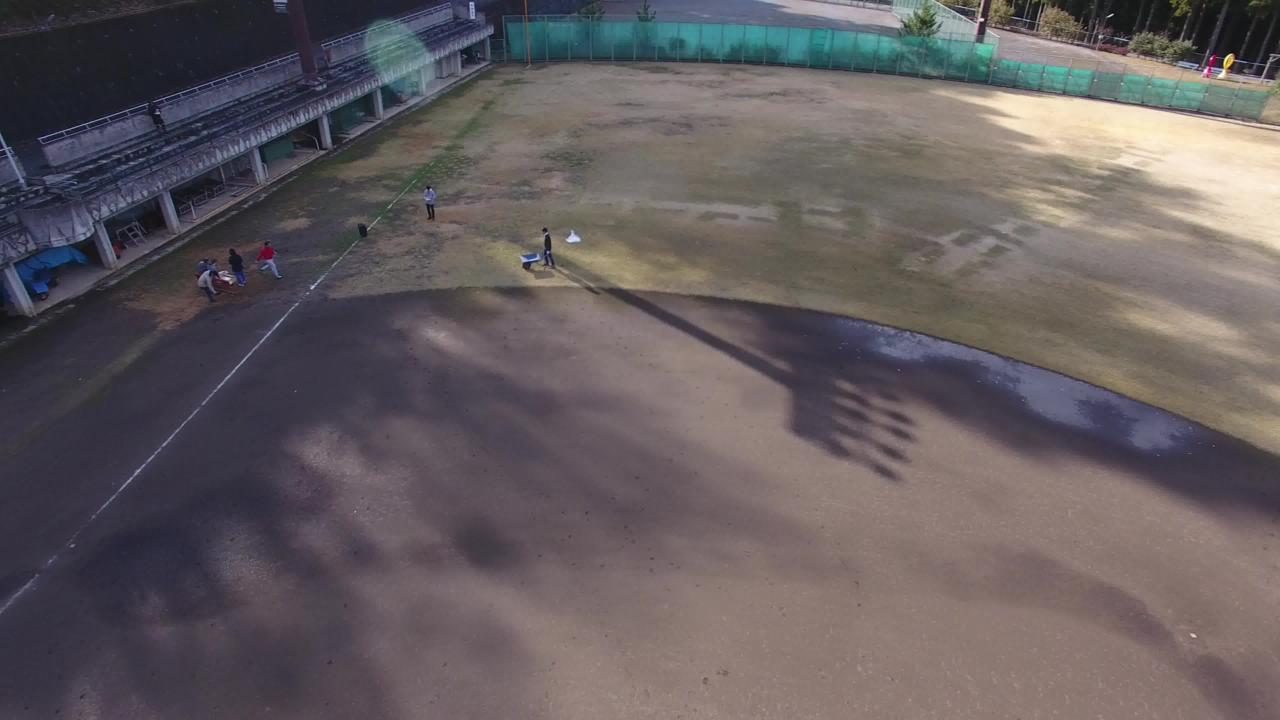person: (255, 233, 293, 286), (539, 228, 561, 276), (420, 179, 442, 227), (146, 94, 169, 136), (194, 270, 217, 306), (224, 244, 247, 280), (186, 254, 212, 275)
